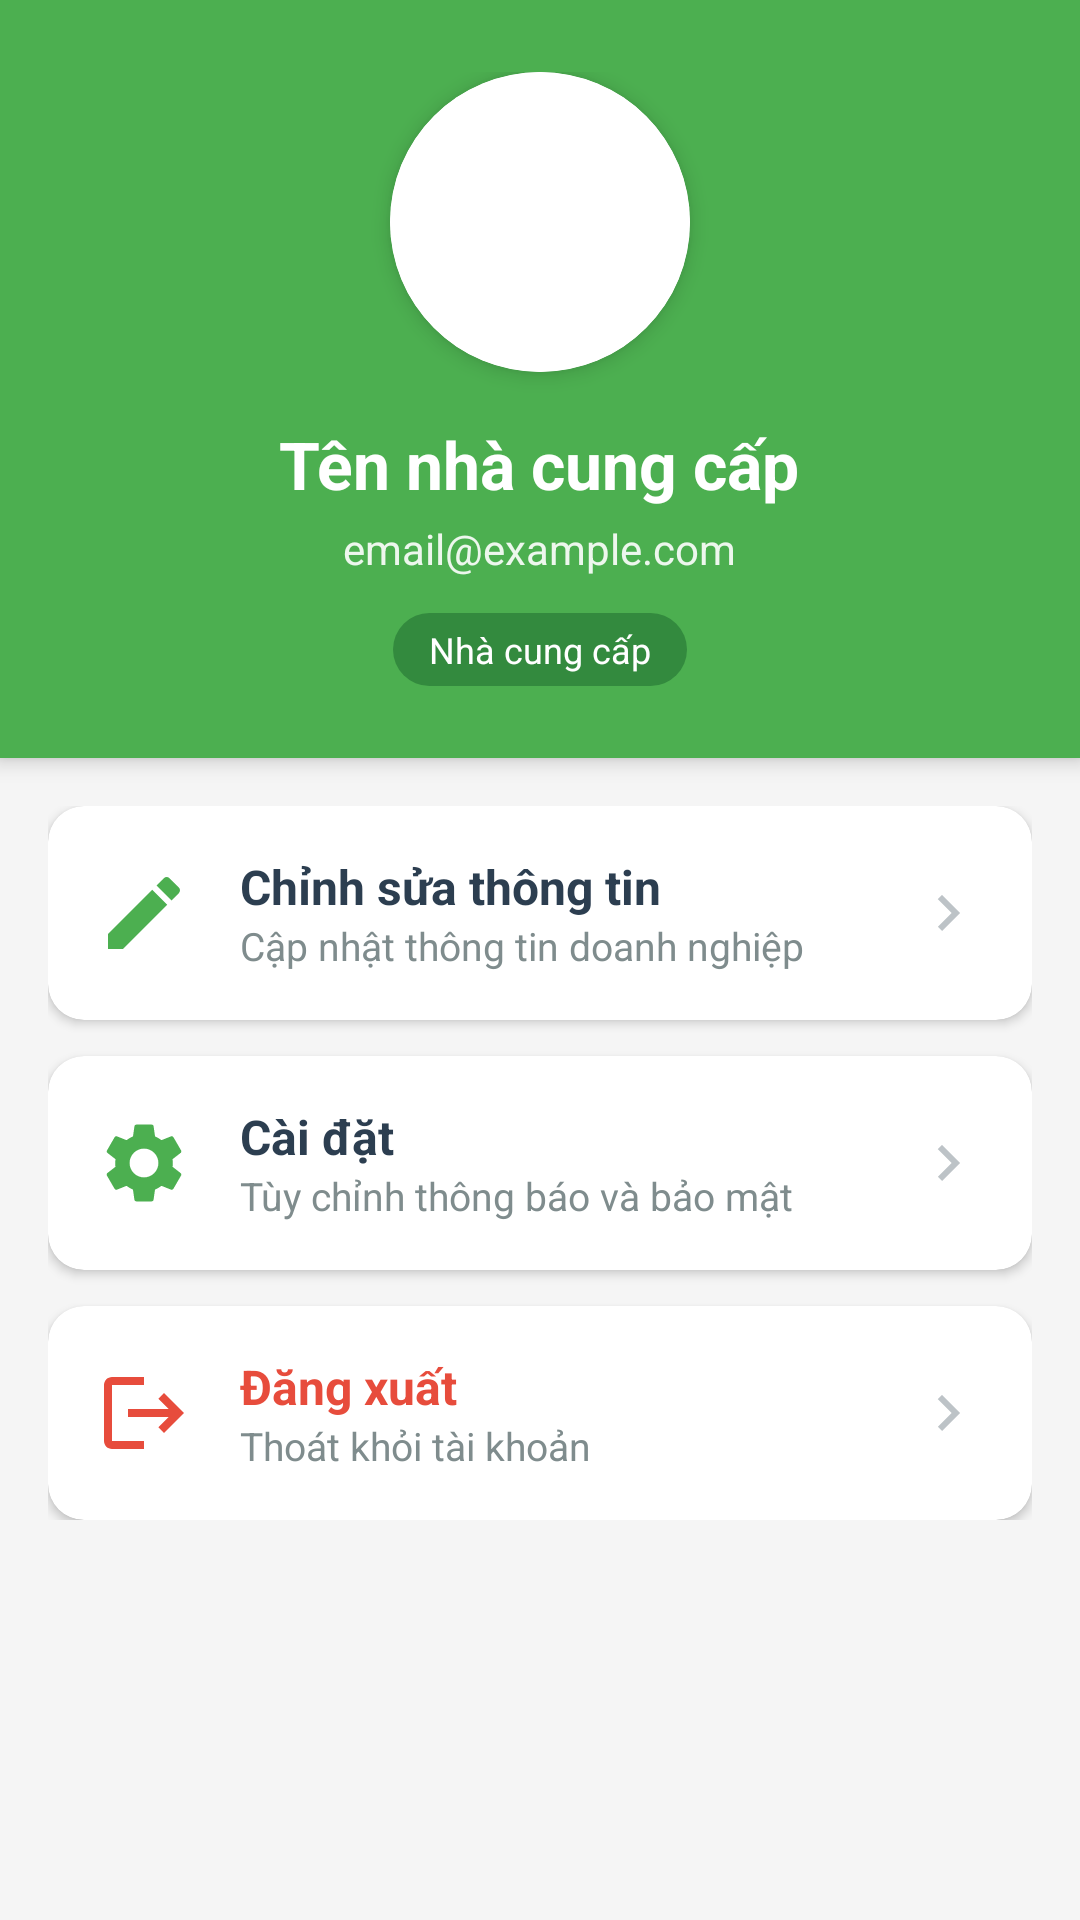

Named icons in this screenshot (1080 × 1920) and their centers, [x,y]:
arrow right: [949,913], [949,1163], [949,1413]
edit: [144,913]
settings: [144,1163]
